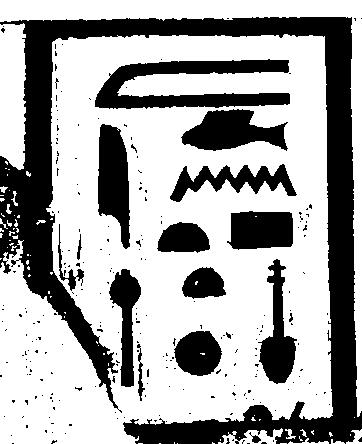Reed: (86, 117, 143, 253)
Water: (169, 158, 297, 205)
